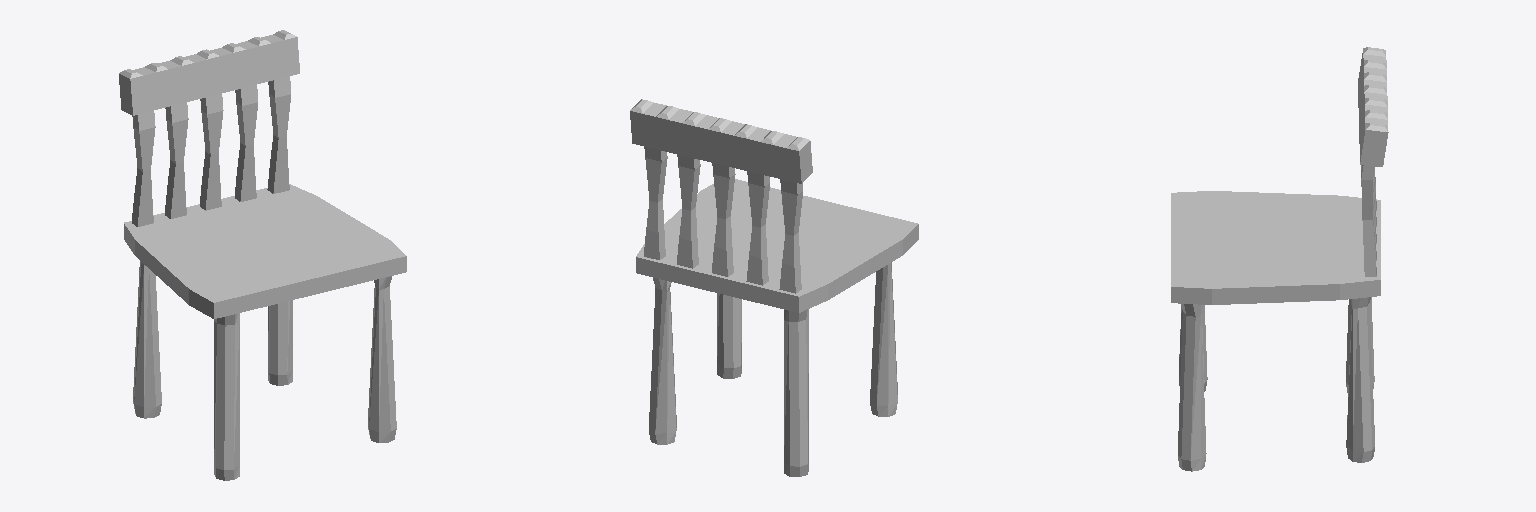
Rendered from Texture Chair.obj.
The picture shows the model from 3 angles: view 1: azimuth 30°, elevation 25°; view 2: azimuth 150°, elevation 25°; view 3: azimuth 270°, elevation 25°; orthographic projection.
Visible parts, largest first — view 1: Chair_Seat, Leg_1 Leg_4 Leg_2 Leg_3, Back_1 Back_4 Back_5 Back_2 Back_3, Headboard; view 2: Chair_Seat, Leg_1 Leg_4 Leg_2 Leg_3, Back_1 Back_4 Back_5 Back_2 Back_3, Headboard; view 3: Chair_Seat, Leg_1 Leg_4 Leg_2 Leg_3, Headboard, Back_1 Back_4 Back_5 Back_2 Back_3.
Boxes of the visible parts, box(x1,y1,x2,y2) form: Chair_Seat: box(124, 184, 406, 318); Leg_1 Leg_4 Leg_2 Leg_3: box(133, 261, 396, 480); Back_1 Back_4 Back_5 Back_2 Back_3: box(132, 76, 290, 226); Headboard: box(119, 30, 299, 115); Chair_Seat: box(636, 179, 918, 312); Leg_1 Leg_4 Leg_2 Leg_3: box(649, 262, 897, 476); Back_1 Back_4 Back_5 Back_2 Back_3: box(644, 147, 802, 293); Headboard: box(630, 99, 812, 183); Chair_Seat: box(1171, 191, 1380, 304); Leg_1 Leg_4 Leg_2 Leg_3: box(1178, 297, 1374, 471); Headboard: box(1358, 47, 1388, 166); Back_1 Back_4 Back_5 Back_2 Back_3: box(1361, 165, 1376, 276).
Size of the model in its own units: 5.18 by 8.37 by 4.84.